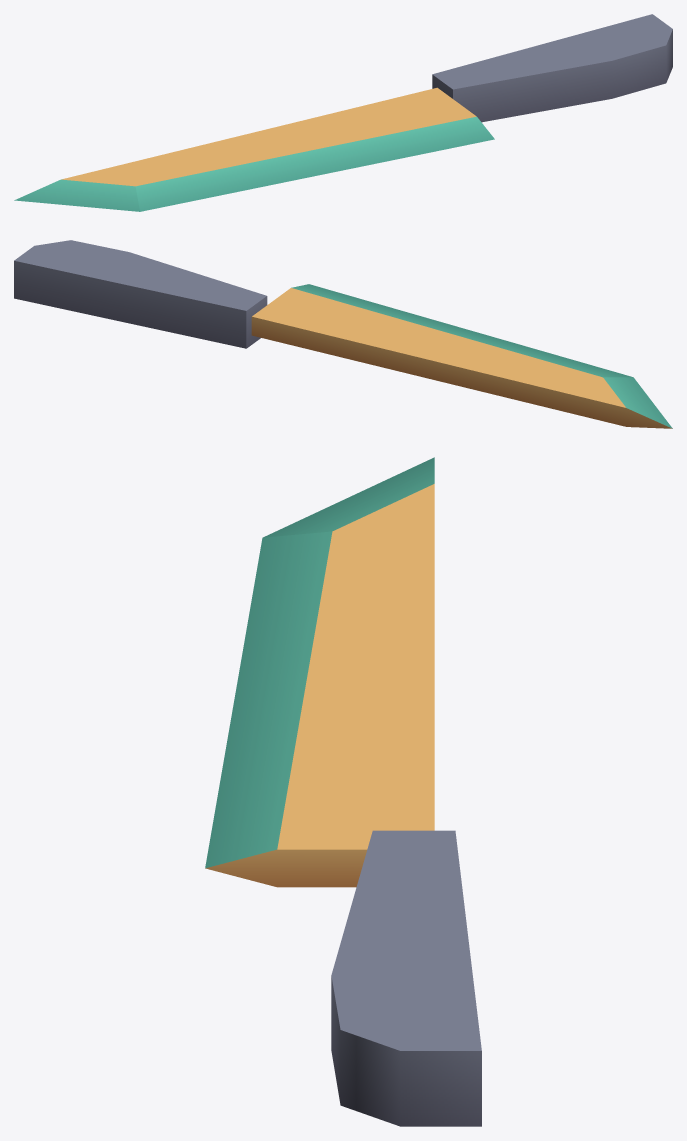
The model's file is cooking-knife.glb.
3 views of the same model, one above another, from view 1: azimuth 30°, elevation 25°; view 2: azimuth 150°, elevation 25°; view 3: azimuth 270°, elevation 25° (orthographic). The views are drawn at different scales.
Visible parts, largest first — view 1: cooking-knife; view 2: cooking-knife; view 3: cooking-knife.
Boxes of the visible parts, bbox=[...] form: cooking-knife: bbox=[14, 14, 672, 211]; cooking-knife: bbox=[14, 240, 672, 428]; cooking-knife: bbox=[205, 457, 481, 1126].
Bounding box in the file's own units: 0.7162 × 0.04 × 0.1327.
Materials: 1 (1 with a texture image).
